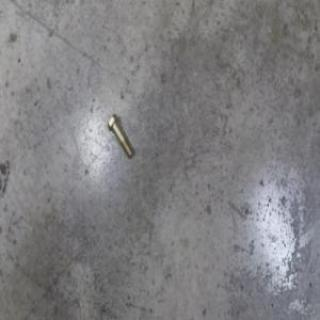Bolttrack_idkeyframe: (106, 113, 132, 159)
